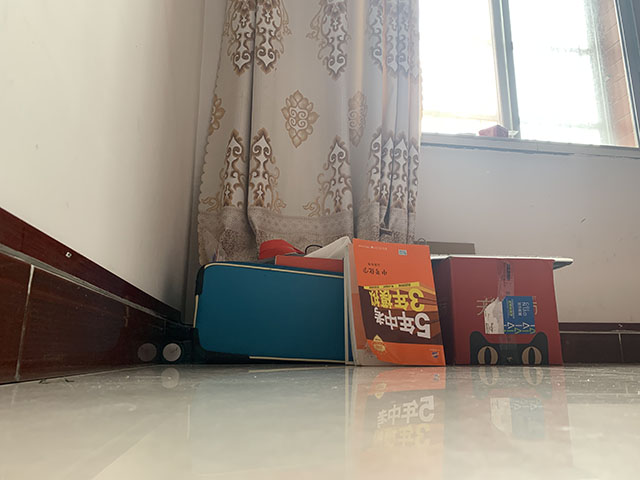book: (343, 237, 447, 368)
curtain: (201, 1, 424, 261)
